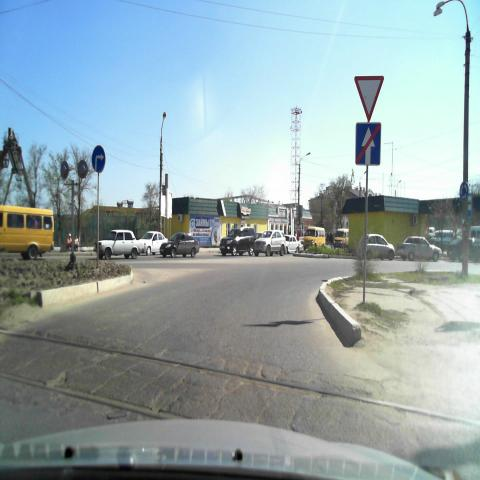2_4: (354, 74, 384, 122)
4_1_2: (91, 146, 106, 176)
4_3: (458, 182, 468, 199)
5_6: (355, 122, 381, 165)
